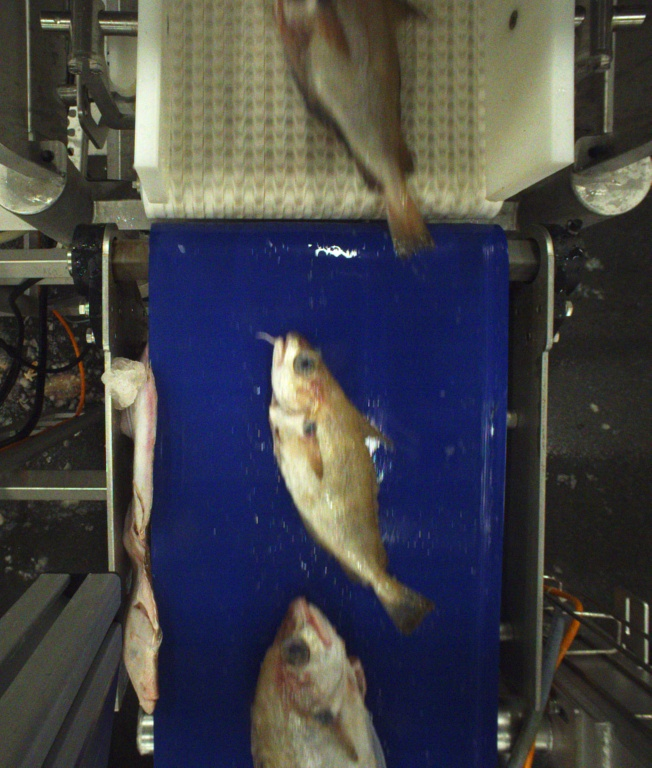BIB: (273, 0, 435, 259)
